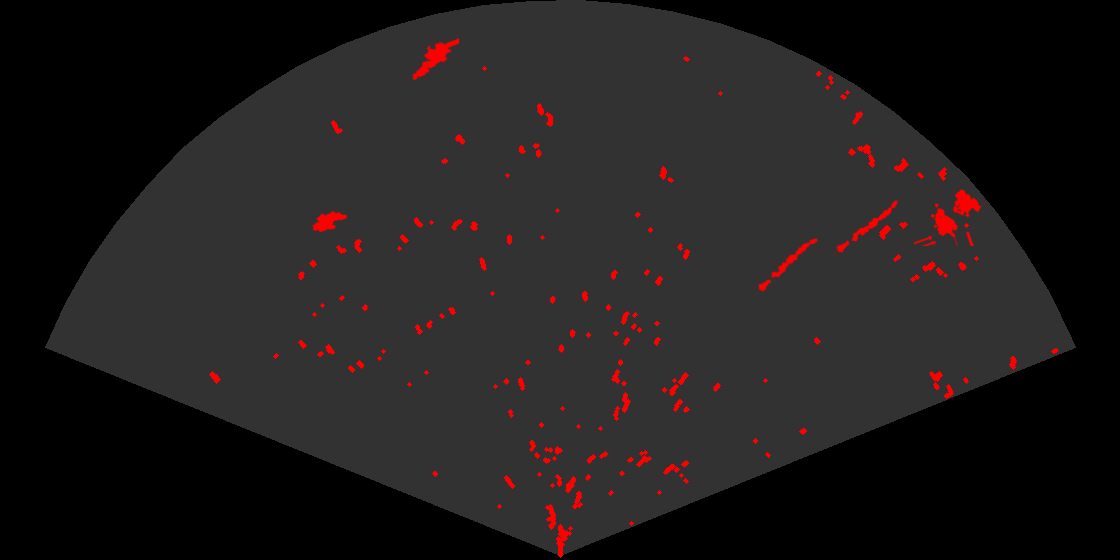AUV: (310, 209, 349, 234)
cage: (914, 188, 983, 246)
chain: (750, 236, 819, 297), (830, 199, 900, 259)
frogman: (402, 36, 459, 83)
